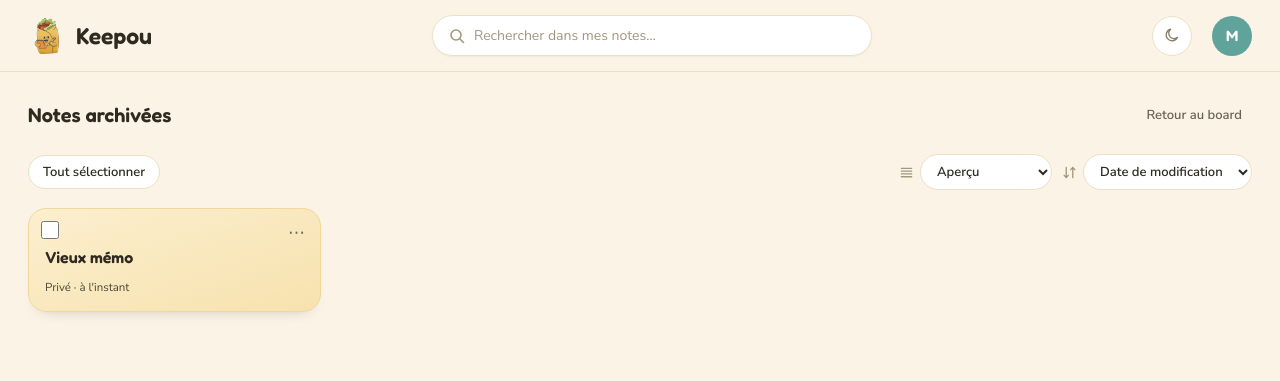
BoardPage › opens the archived view and unarchives a note
This screenshot has width=1280, height=381.
Expected: the button "⋯ Vieux mémo Privé · à l'instant" is shown, [28,208,320,312]
Expected: the heading "Notes archivées" is shown, [28,103,171,127]
Click the button named "Actions pour Vieux mémo": [296, 232] box [284,219,310,245]
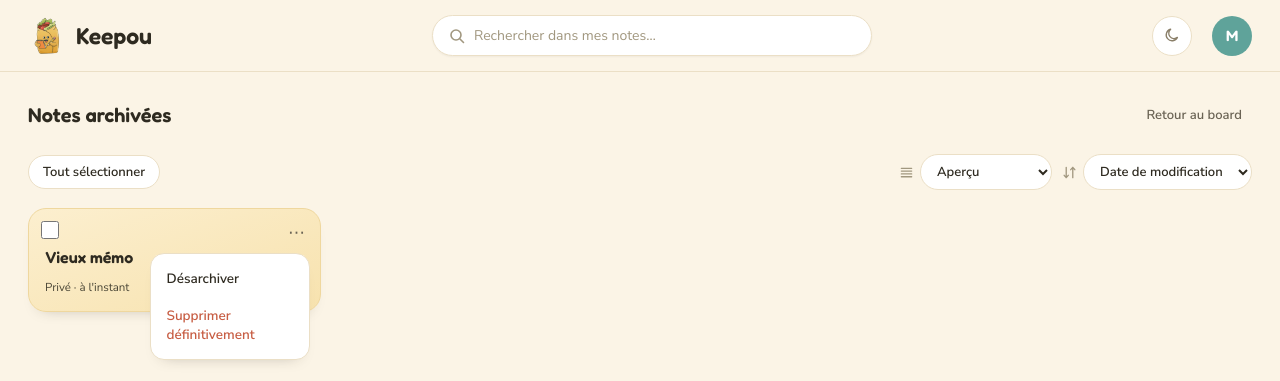
Click the menu item "Désarchiver": [230, 278] box [156,260,302,297]
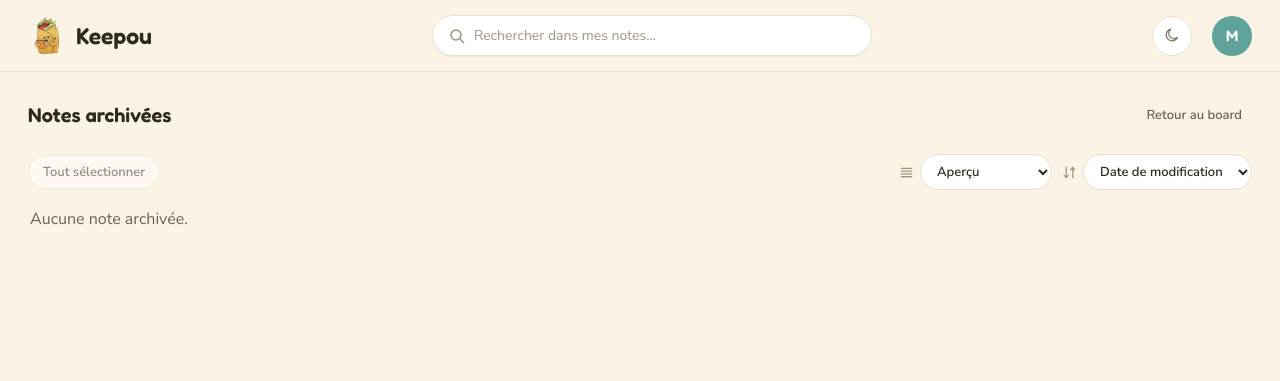
Result: the button "Vieux mémo" is gone
